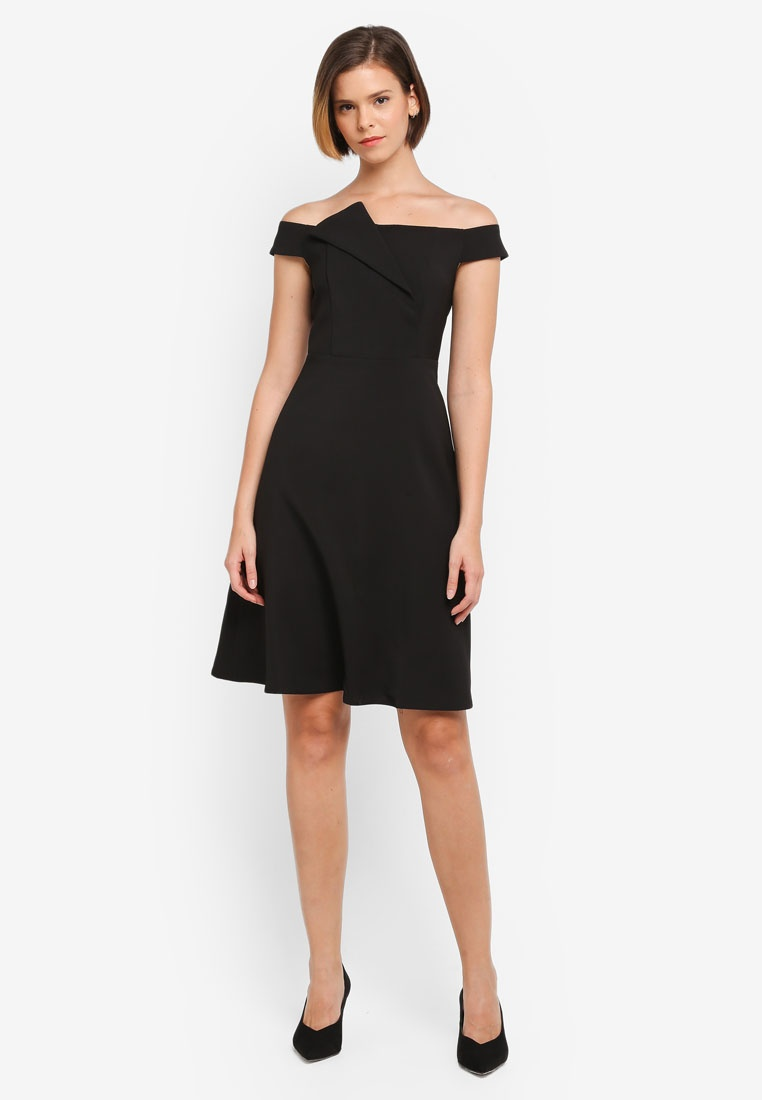S_dress: (187, 202, 534, 721)
